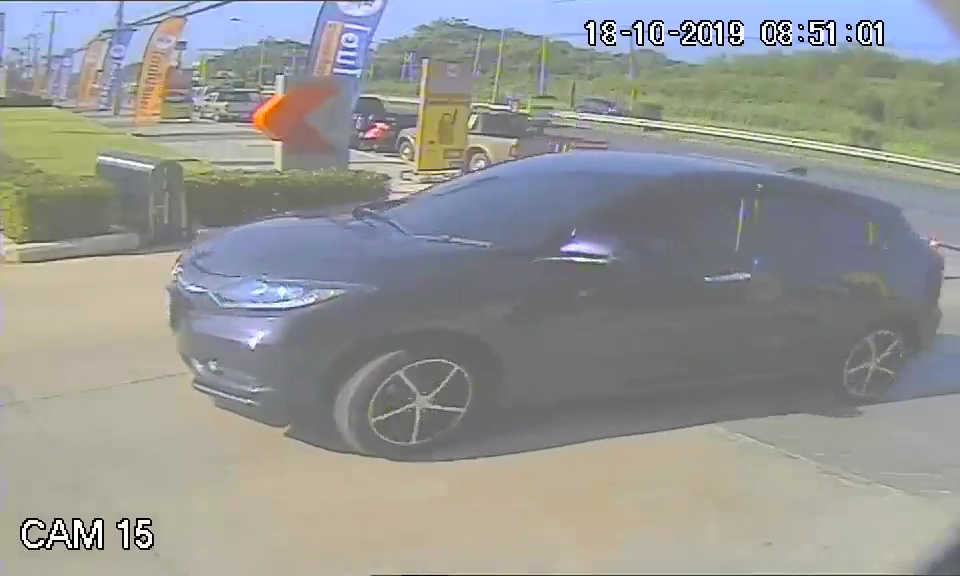sedan: (161, 154, 943, 456)
